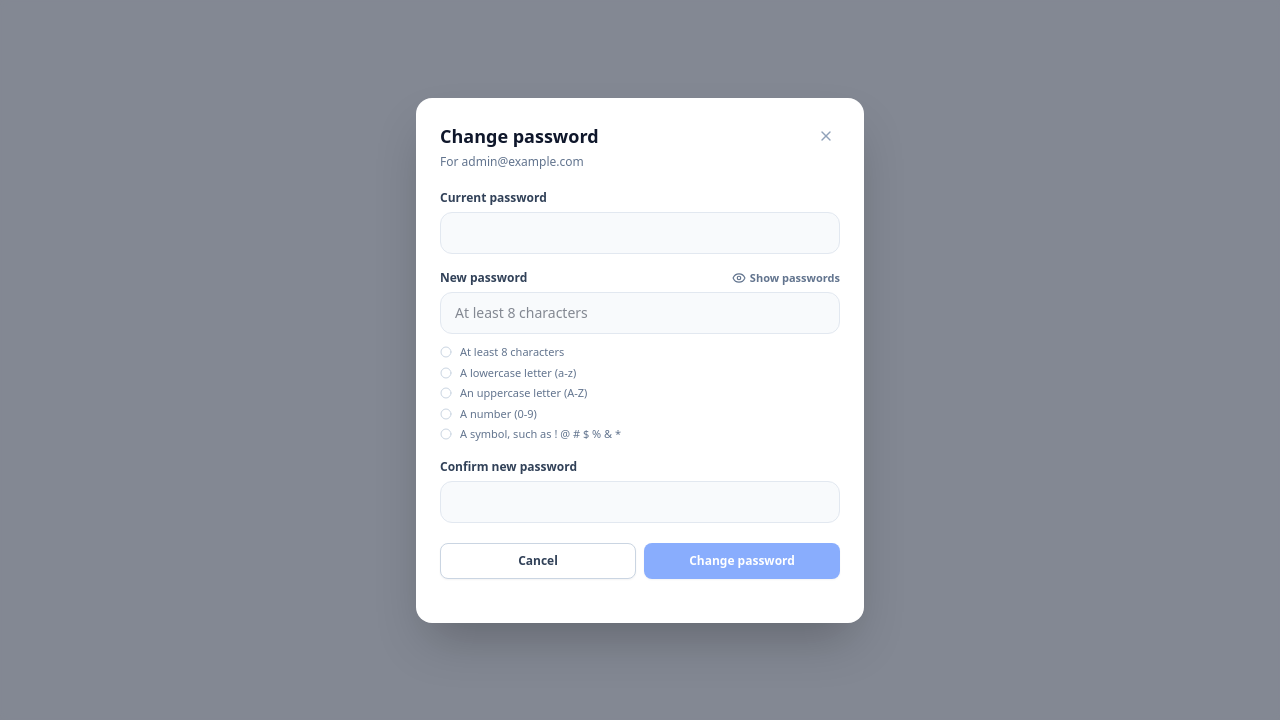
Test: ChangePasswordDialog › stays open with the reason when the current password is wrong
This screenshot has width=1280, height=720.
Type "Old#Pass2025" into the password field labelled "Current password" at (640, 232), box [440,212,840,254]
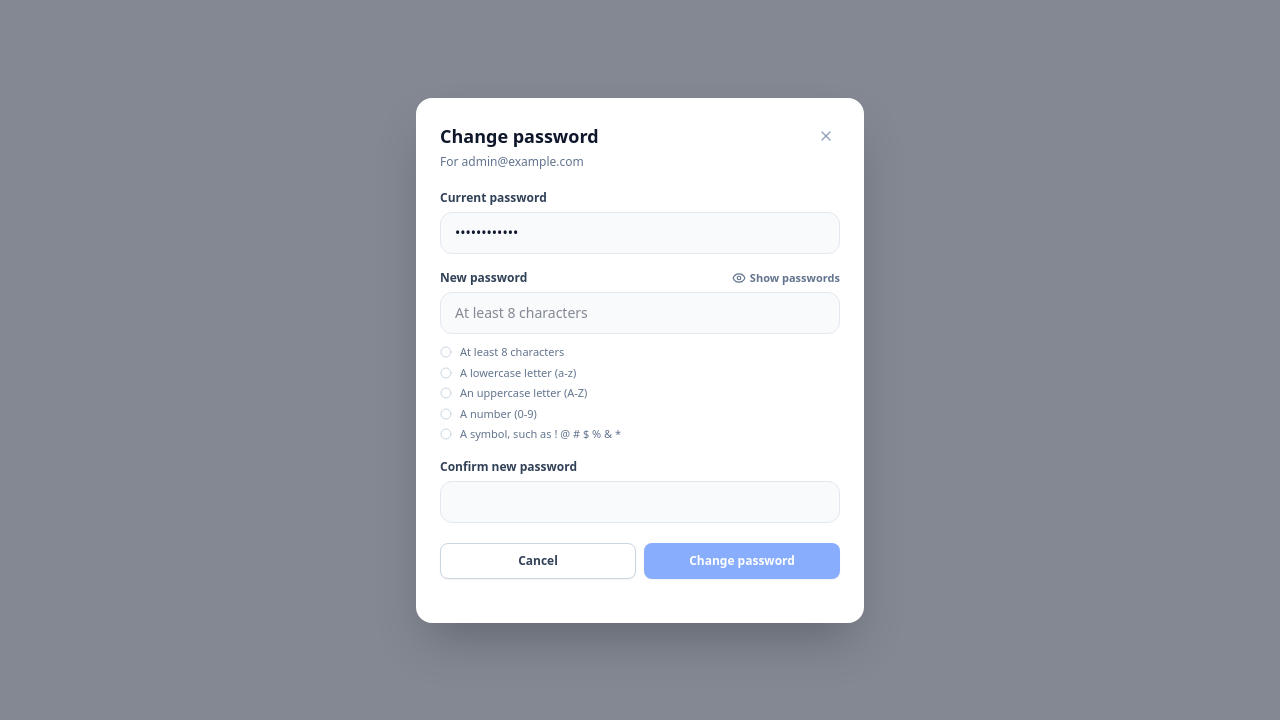
Type "Harbour#2026" into the password field labelled "New password" at (640, 313), box [440,292,840,334]
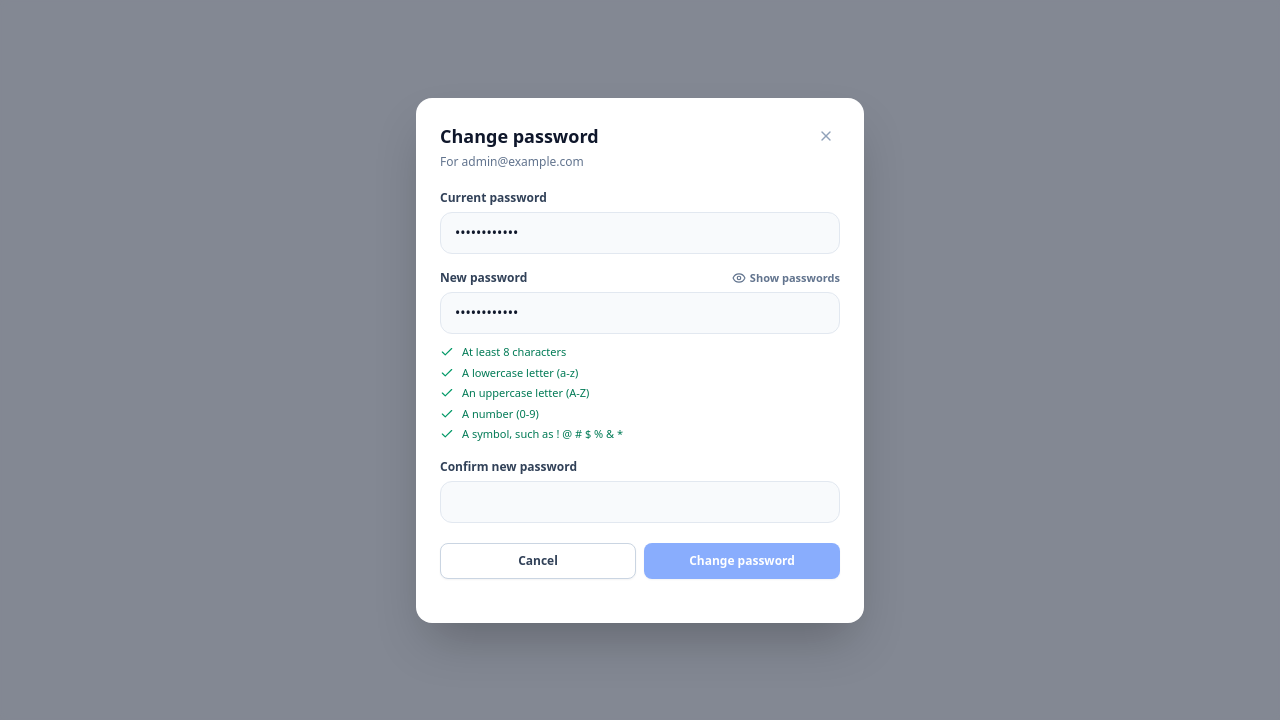
Type "Harbour#2026" into the password field labelled "Confirm new password" at (640, 502), box [440,480,840,522]
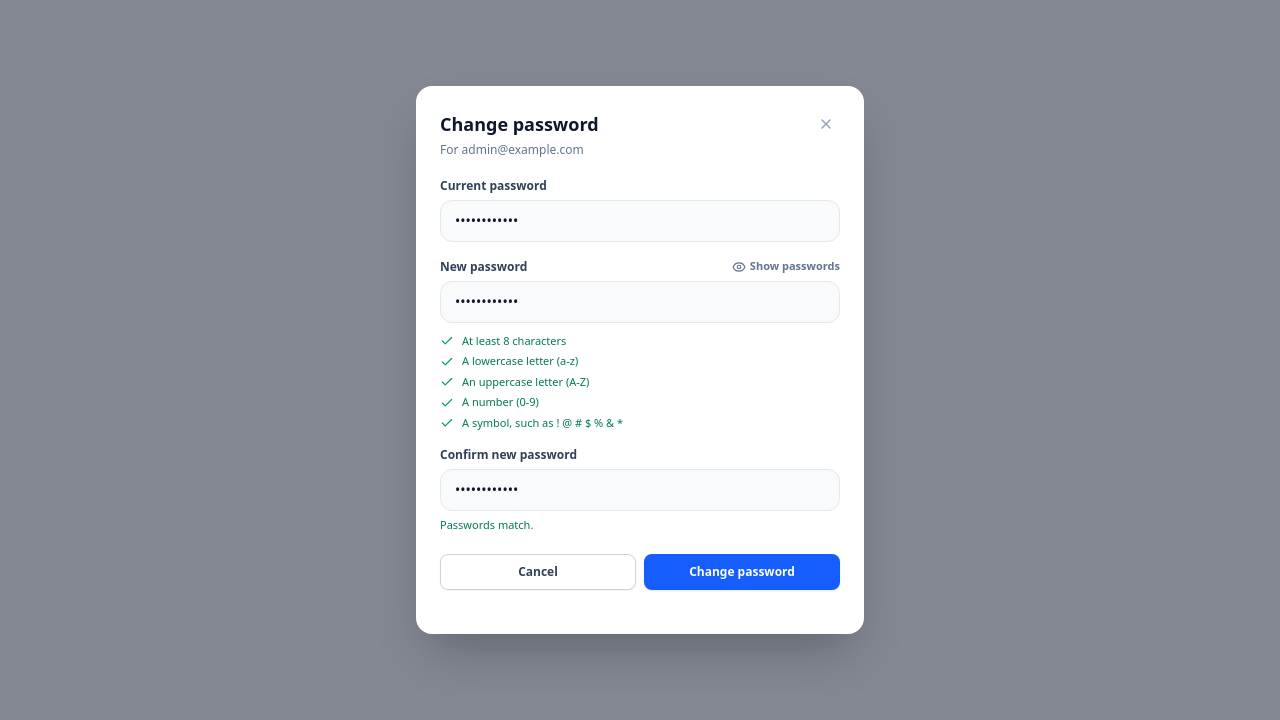
Click the button "Change password" at (742, 572), box [644,554,840,590]
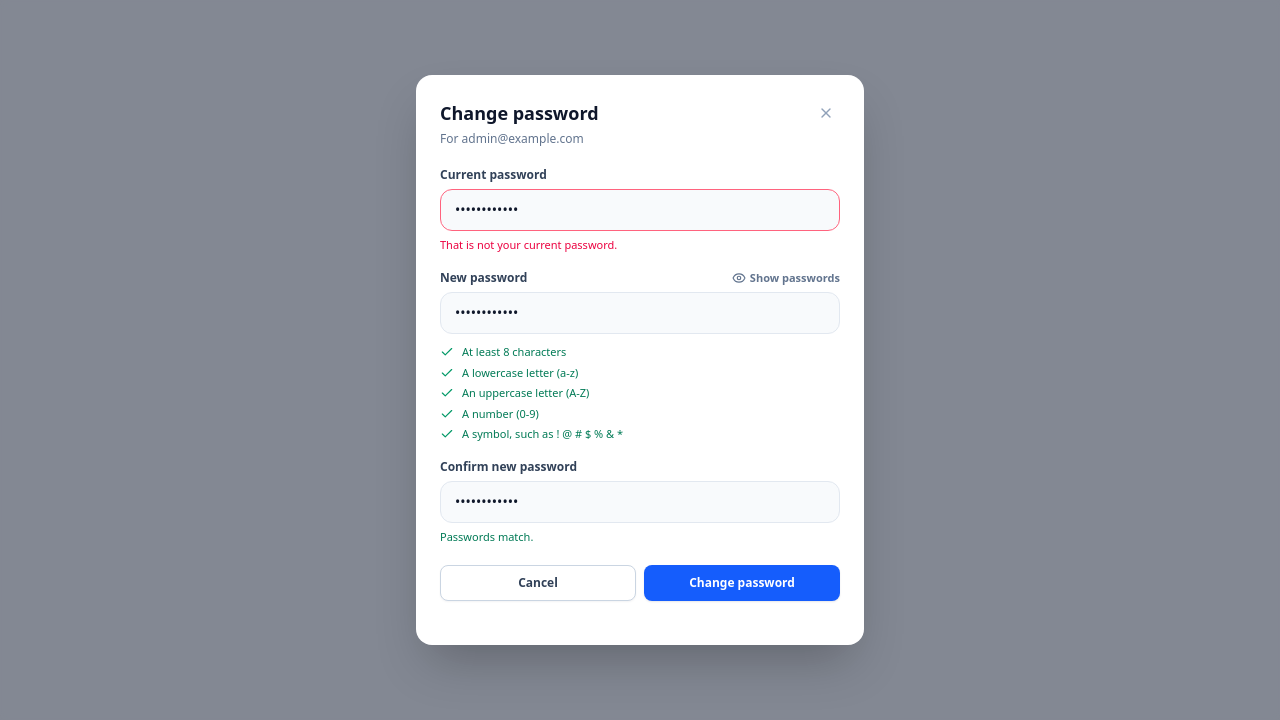
Expected: the text "That is not your current password." is shown, [440,237,617,252]
